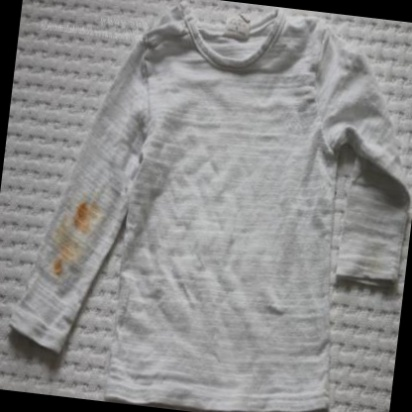kimchi: (41, 190, 105, 285), (70, 198, 95, 228), (43, 252, 64, 280)
